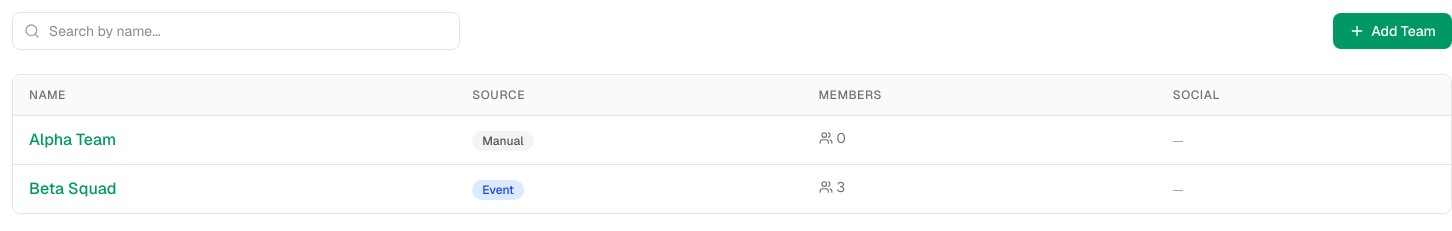
Test: TeamTable › filters by name when searching
The width and height of the screenshot is (1452, 231).
In the field with placeholder "Search by name...": (236, 31) [12,12,460,50], type "Alpha"
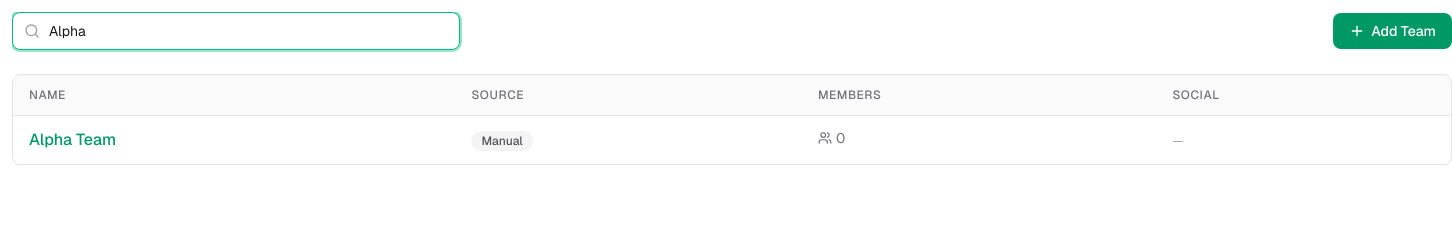
Check: the link "Beta Squad" is gone
